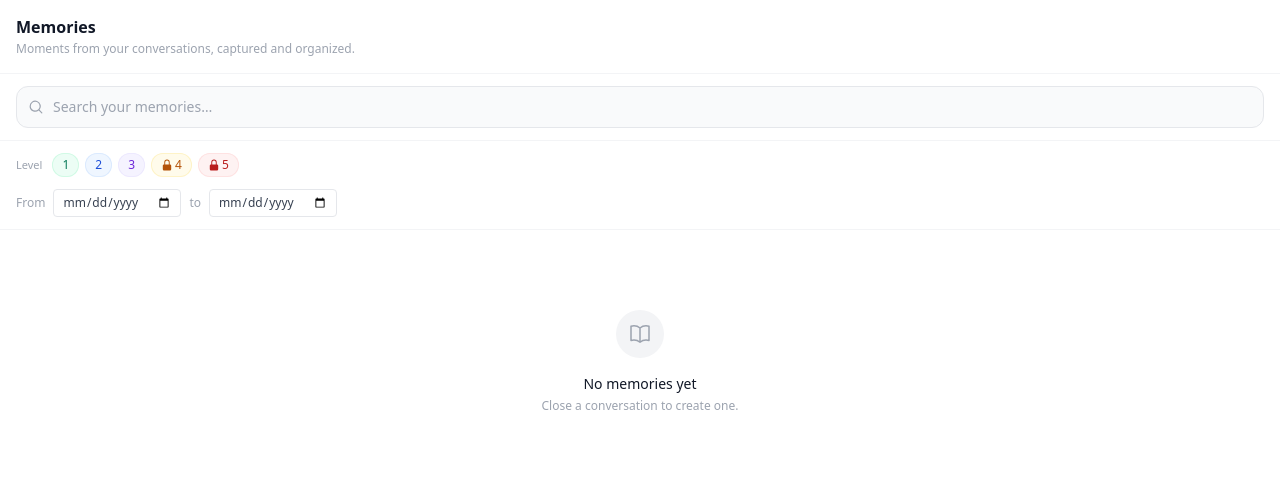
Test case: MemoriesScreen — filter bar › shows "Clear filters" when any filter is active
Expected: the heading "Memories" is shown, [16,16,96,38]
Expected: the button "clear filters" is not shown
// Deselect one level
What coordinates should you click on to do the following:
click the button named "L2"
I would click on:
 (99, 165)
Its box is [85,153,112,177].
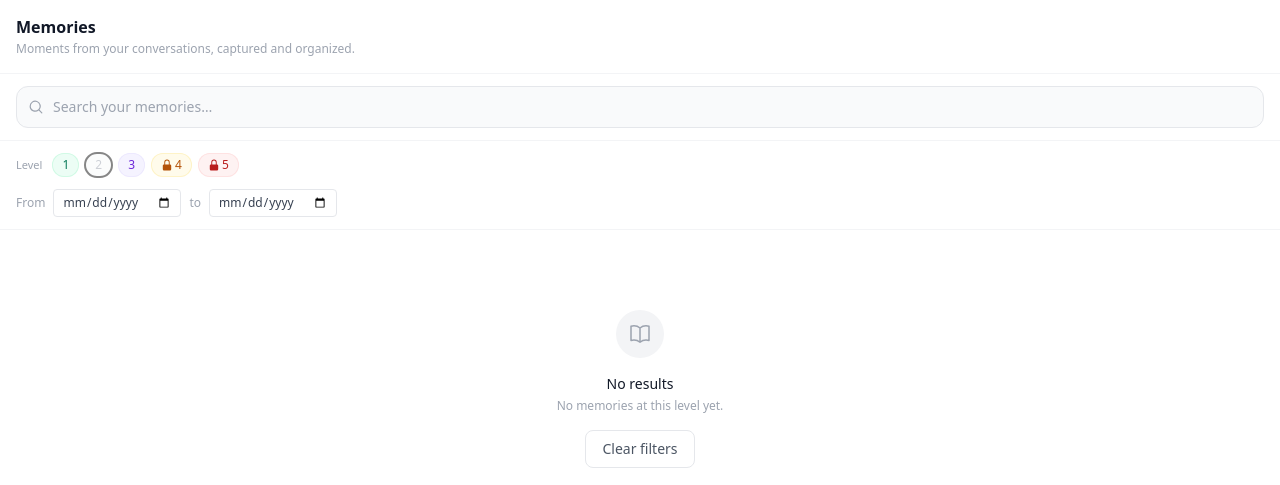
Now the button "Clear filters" is shown, box [585,430,694,468]
